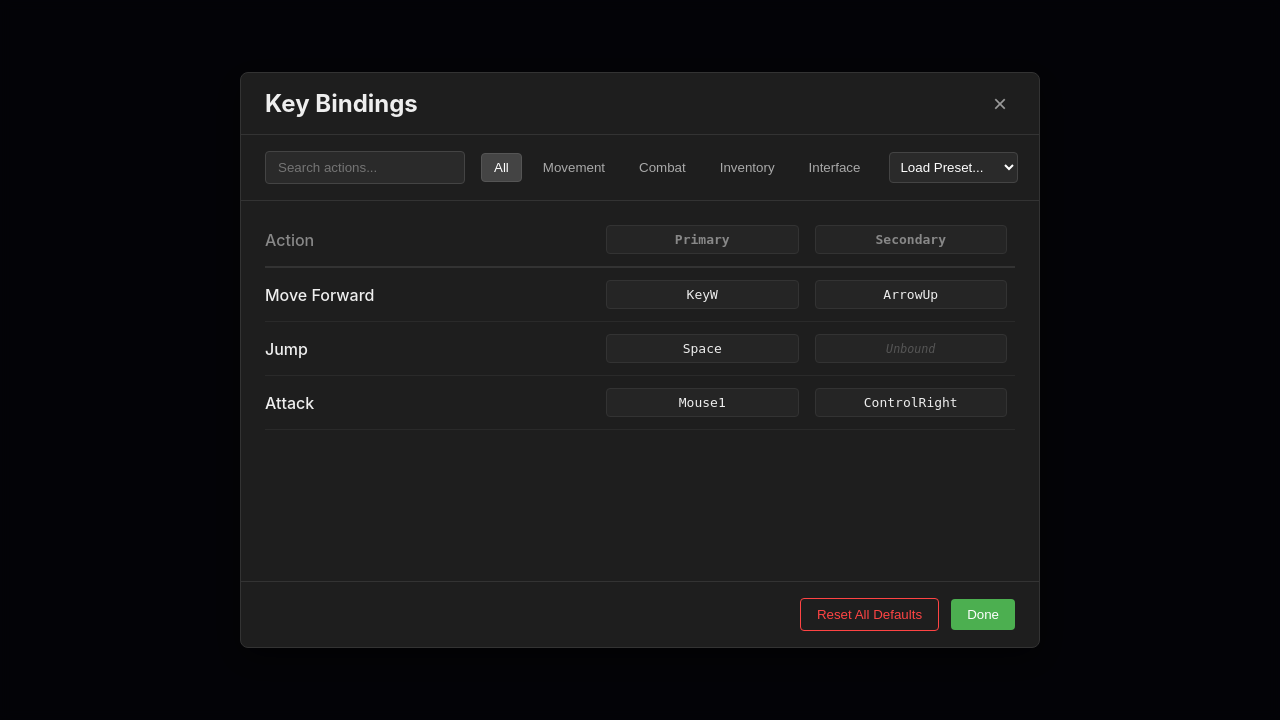
Test: KeybindingEditor › filters by search query
Type "Jump" into the field with placeholder "Search actions..." at (365, 168), box [265,151,465,184]
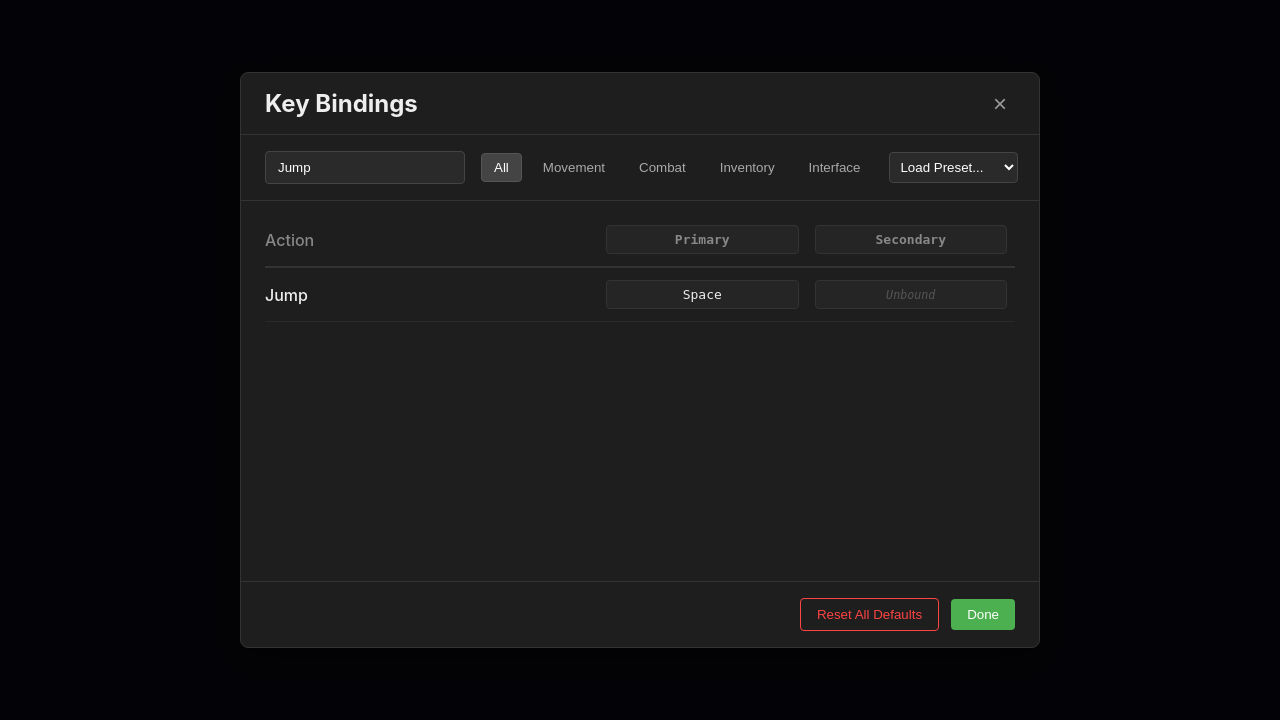
Expected: the text "Jump" is shown, [265,284,308,304]
Expected: the text "Move Forward" is gone
